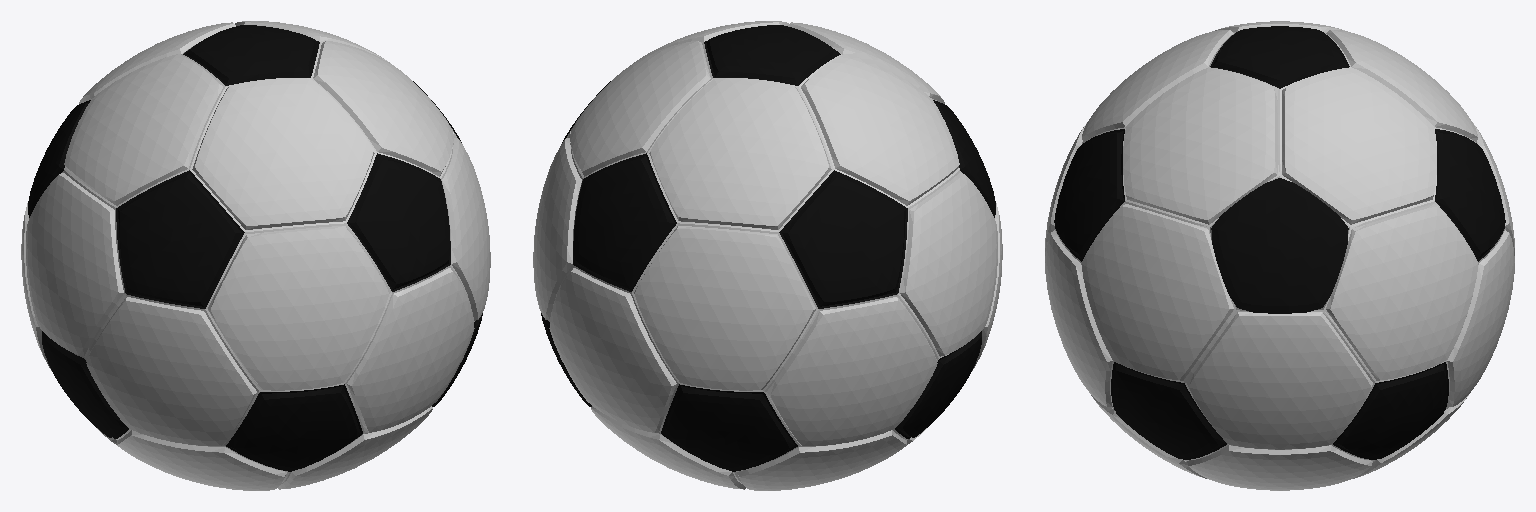
The model's file is Football.blend.obj.
3 views of the same model, side by side, from view 1: azimuth 30°, elevation 25°; view 2: azimuth 150°, elevation 25°; view 3: azimuth 270°, elevation 25° (orthographic).
Visible parts, largest first — view 1: Icosphere_Icosphere.003; view 2: Icosphere_Icosphere.003; view 3: Icosphere_Icosphere.003.
Boxes of the visible parts, <box> form: Icosphere_Icosphere.003: <box>21,21,490,490</box>; Icosphere_Icosphere.003: <box>533,21,1002,490</box>; Icosphere_Icosphere.003: <box>1045,21,1514,490</box>.
Size of the model in its own units: 2.03 by 2.03 by 2.03.